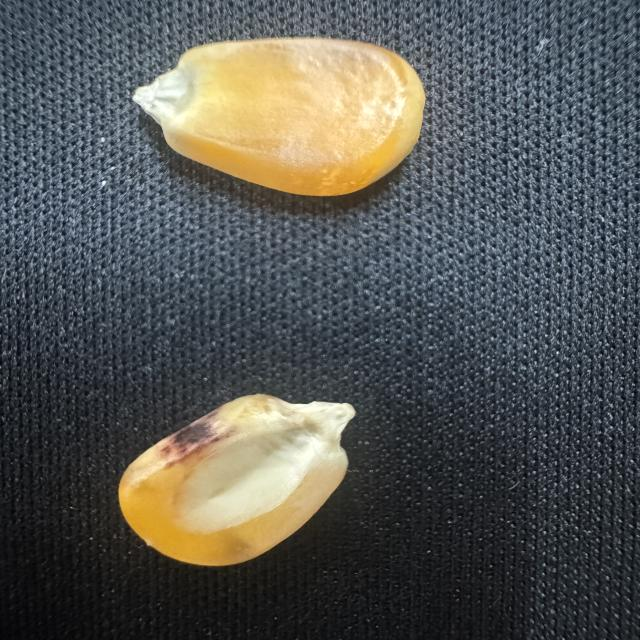Bad-Seed: (106, 388, 365, 568)
Good-Seed: (123, 30, 430, 205)
